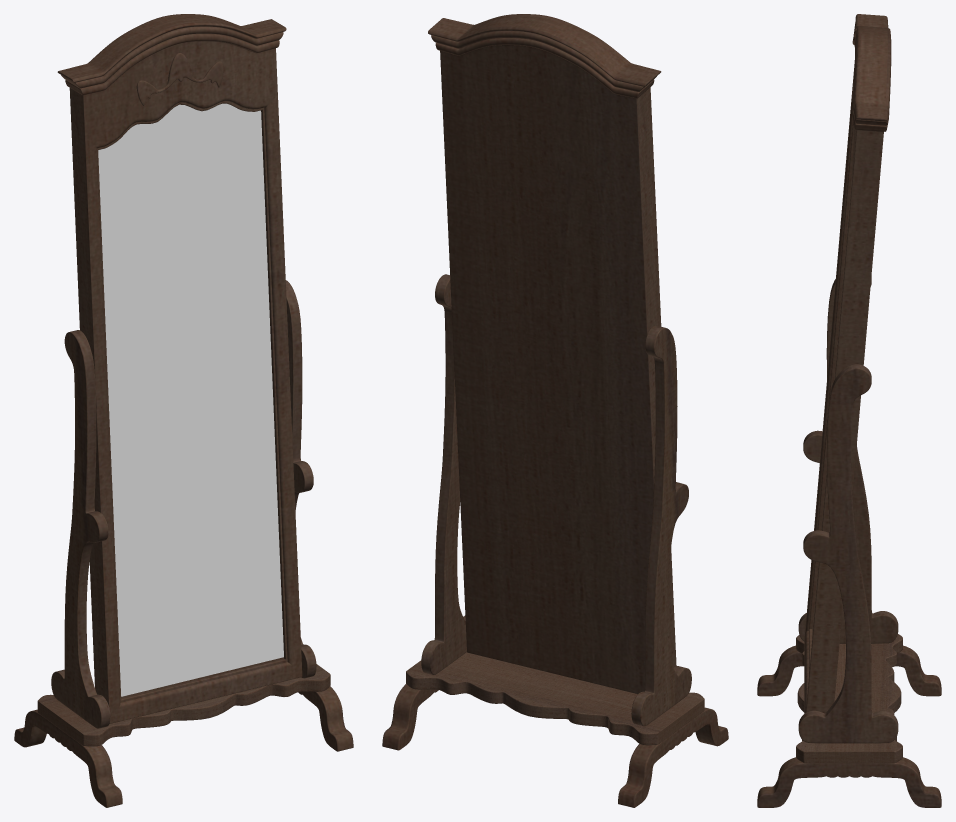
File: mirror1.FBX
The picture shows the model from 3 angles, left to right: view 1: azimuth 30°, elevation 25°; view 2: azimuth 150°, elevation 25°; view 3: azimuth 270°, elevation 25°; orthographic projection. The views are drawn at different scales.
Parts seen in each view (by area): view 1: Plane001, 01 Standing Mirror.Shape; view 2: 01 Standing Mirror.Shape; view 3: 01 Standing Mirror.Shape.
Boxes of the visible parts, bbox=[...] form: Plane001: bbox=[98, 103, 283, 696]; 01 Standing Mirror.Shape: bbox=[14, 14, 353, 807]; 01 Standing Mirror.Shape: bbox=[382, 14, 728, 807]; 01 Standing Mirror.Shape: bbox=[757, 14, 941, 807].
Size of the model in its own units: 7.44 by 20.55 by 4.83.
Materials: 1 (1 with a texture image).
